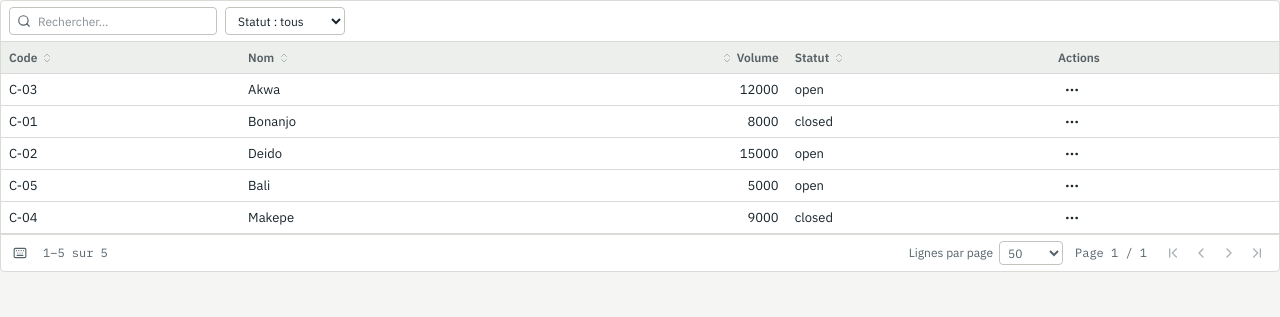
DataTable — mode local › recherche, filtre et état vide filtré
Later steps or results of the test are not shown.
Select "Fermé" in the dropdown named "Statut" at (285, 21), box [225,7,345,35]
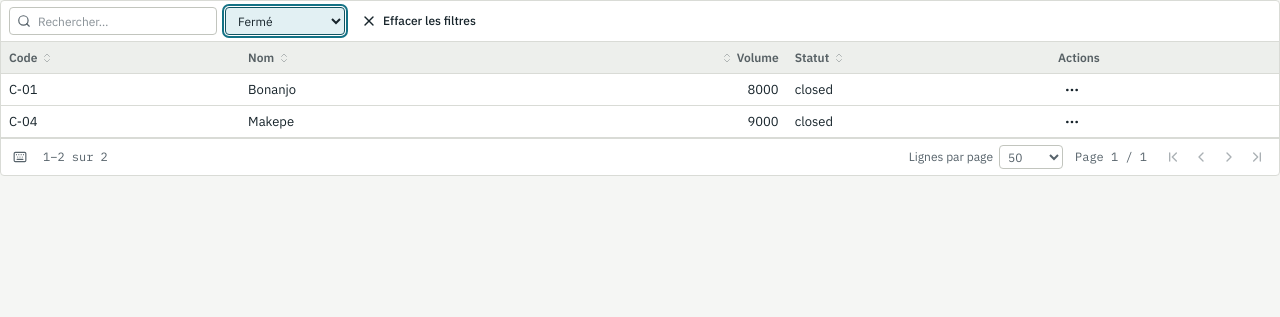
Type "make" into the search field at (113, 21), box [9,7,217,35]
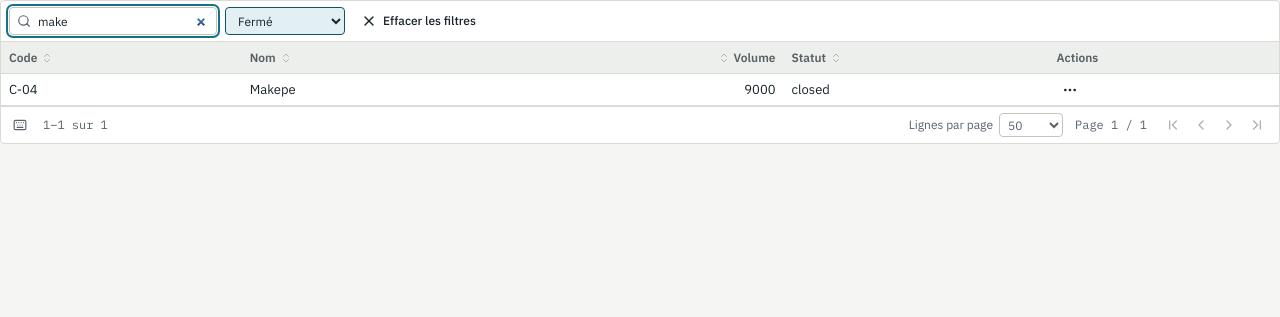
Type "zzz" into the search field at (113, 21), box [9,7,217,35]
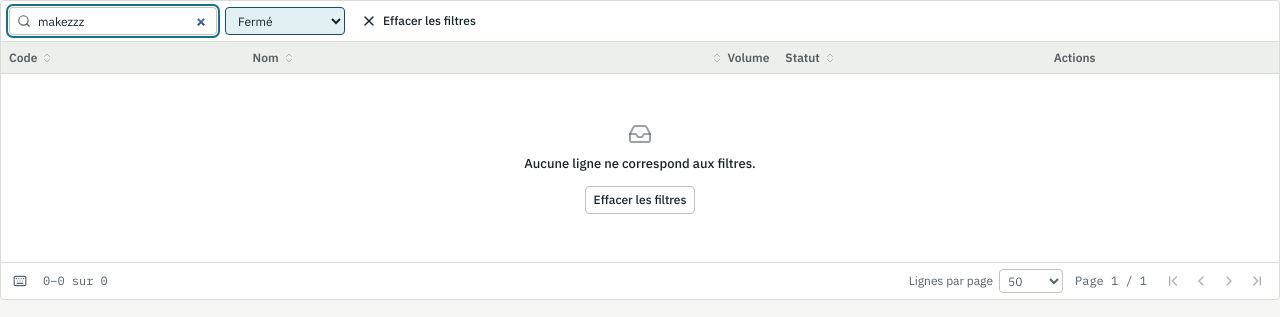
expect the text "Aucune ligne ne correspond aux filtres." is shown: met, box [524,154,756,174]
